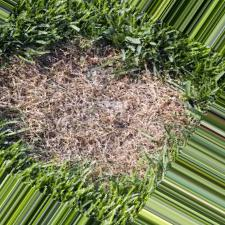patch: (19, 72, 87, 129), (93, 79, 143, 133), (57, 135, 132, 164), (150, 85, 174, 122), (94, 57, 138, 75), (139, 136, 159, 156)
